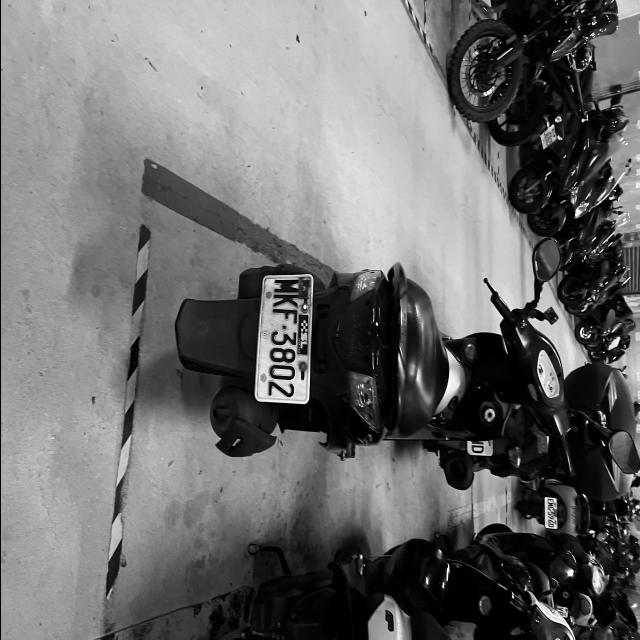-: (280, 325, 288, 330)
0: (268, 364, 296, 380), (547, 524, 553, 528)
2: (268, 382, 294, 396)
3: (270, 332, 296, 348)
5: (548, 512, 554, 516)
6: (547, 520, 553, 524)
8: (268, 348, 296, 363)
9: (547, 516, 553, 520)
D: (471, 446, 483, 454)
E: (547, 498, 553, 502)
F: (272, 308, 298, 324)
G: (547, 506, 553, 511)
K: (272, 294, 298, 308)
M: (273, 278, 299, 294), (547, 503, 553, 506)
plate: (256, 278, 311, 400), (544, 498, 556, 528)
